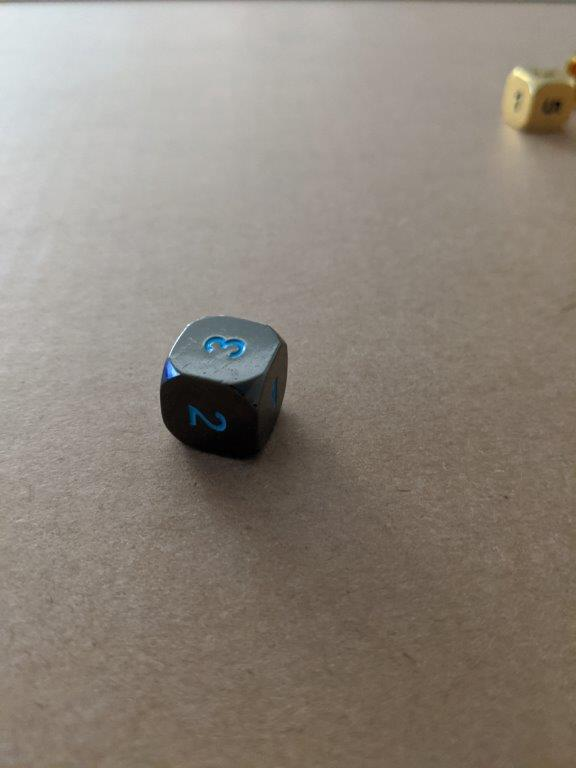d6-3: (157, 311, 289, 463)
